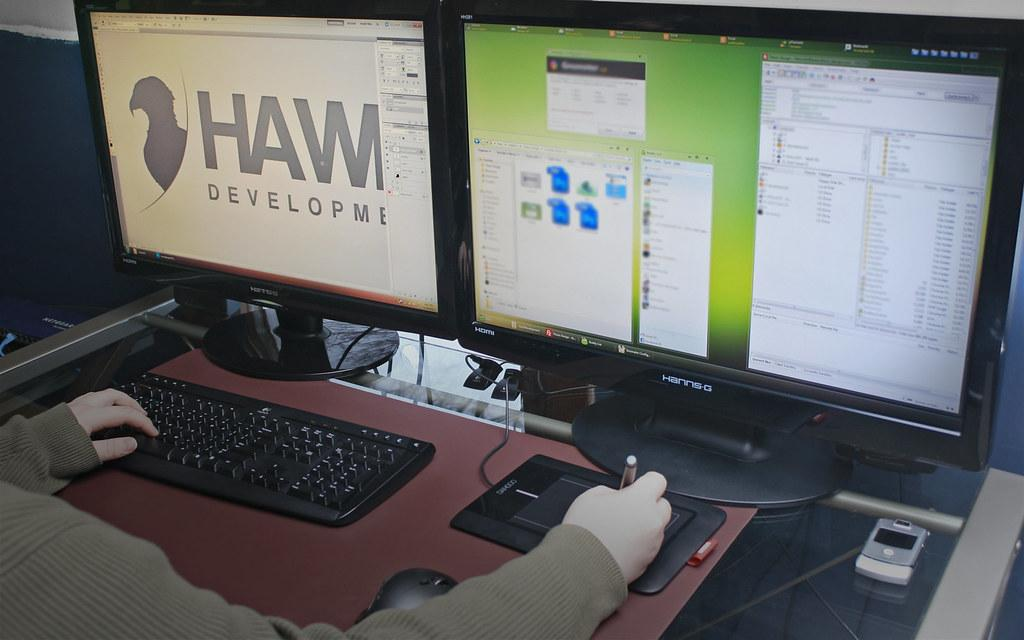computer: (440, 1, 1023, 507), (73, 1, 459, 383)
